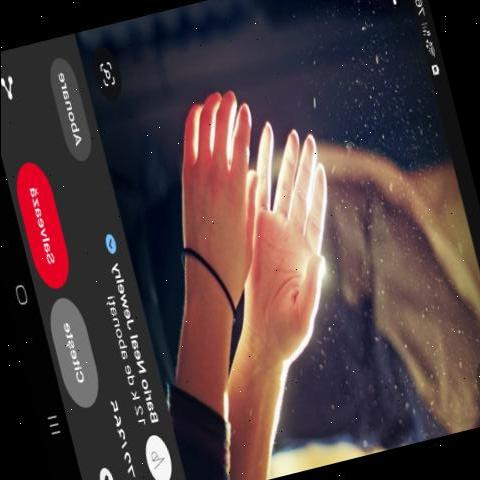Hands: (252, 79, 402, 390), (163, 56, 270, 316)
